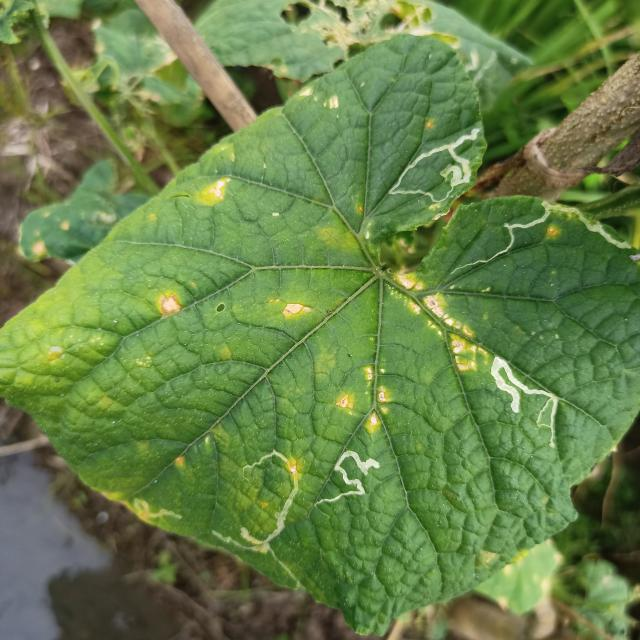disease_cucumber: (388, 270, 490, 378), (331, 360, 395, 435), (296, 85, 342, 112), (197, 173, 234, 206), (277, 293, 312, 325), (154, 292, 188, 316), (546, 225, 562, 239)
